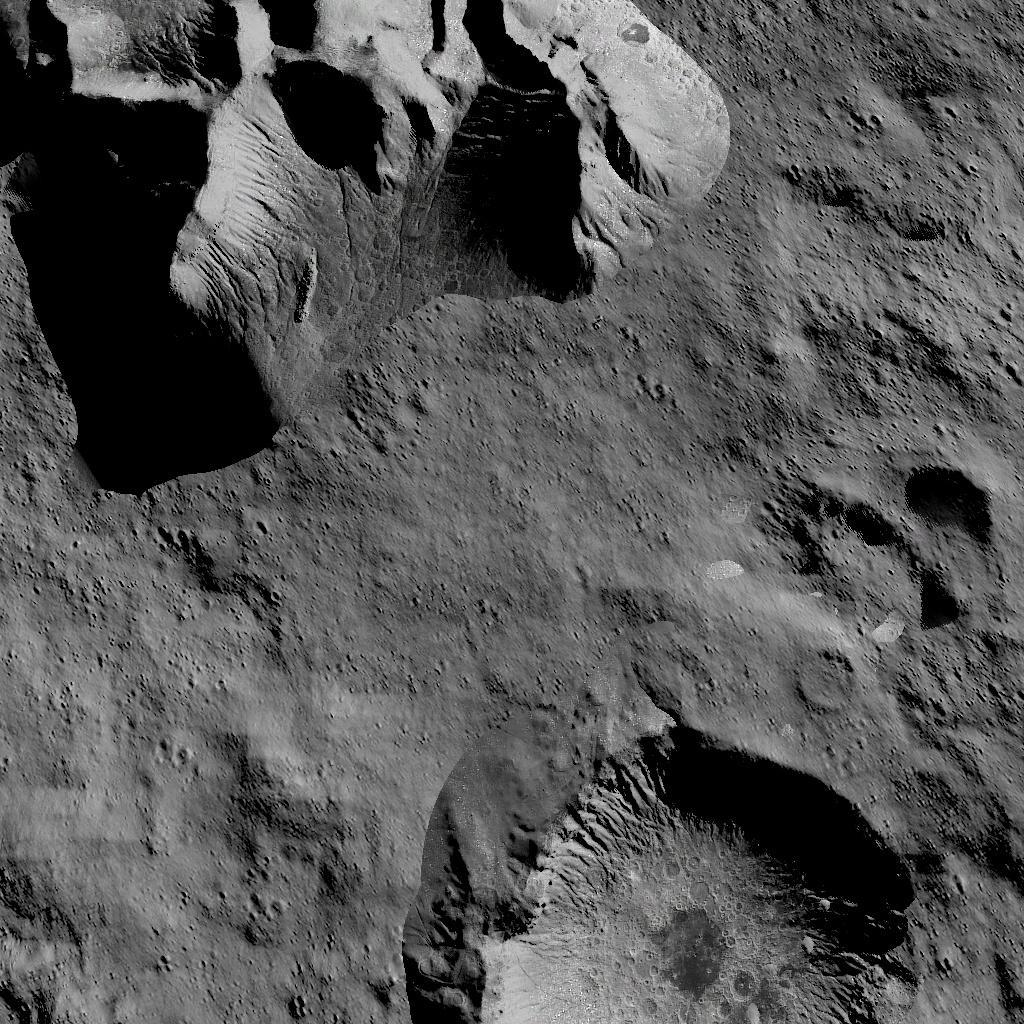Boulders: (10, 0, 730, 487)
Crater: (424, 718, 940, 1024), (782, 438, 1016, 650)
Plan surface: (15, 522, 401, 943), (775, 0, 1024, 394), (436, 516, 760, 702)
